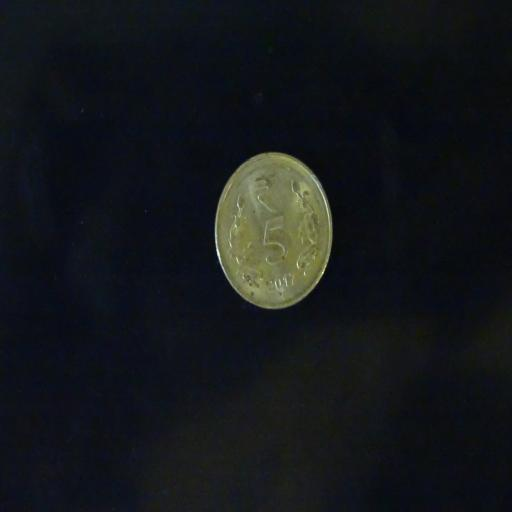rupee5: (214, 152, 333, 308)
